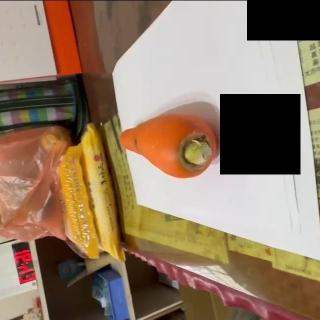carrot: (119, 111, 221, 181)
